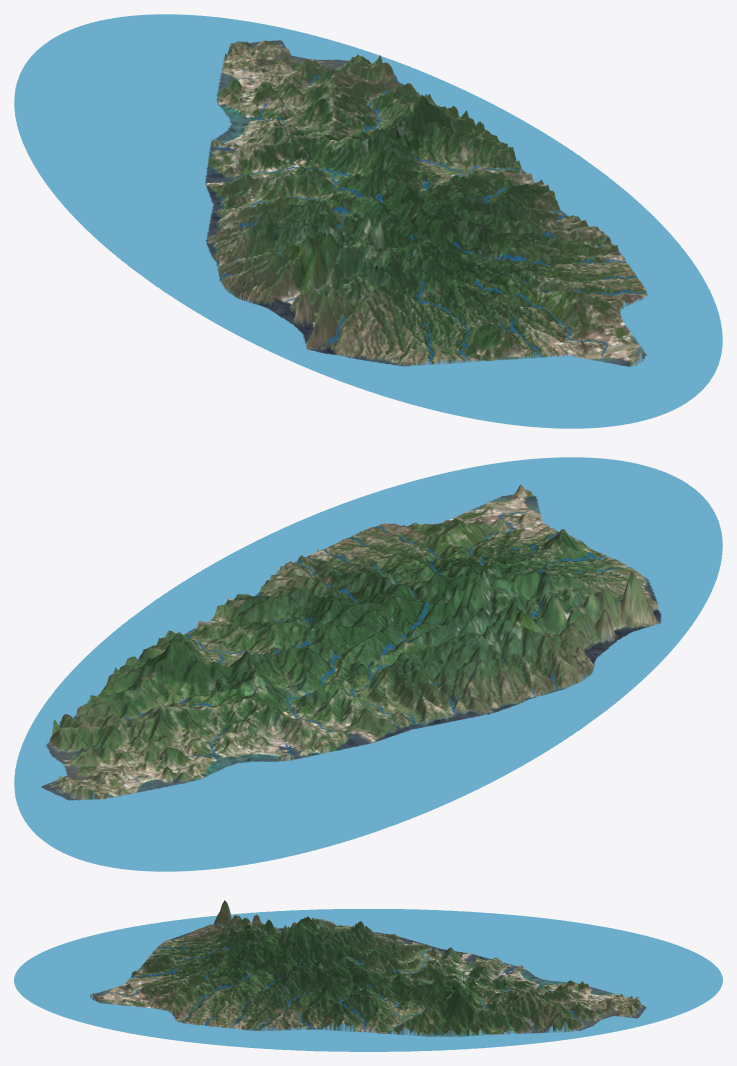
File: LCA-previa-terrain.glb
The picture shows the model from 3 angles, top to bottom: view 1: azimuth 30°, elevation 25°; view 2: azimuth 150°, elevation 25°; view 3: azimuth 270°, elevation 25°; orthographic projection. The views are drawn at different scales.
Parts seen in each view (by area): view 1: Santa Lúcia; view 2: Santa Lúcia; view 3: Santa Lúcia.
Part boxes in pixels (x1,y1,x2,y2): Santa Lúcia: [14, 14, 722, 428]; Santa Lúcia: [14, 457, 722, 871]; Santa Lúcia: [14, 900, 722, 1051].
Size of the model in its own units: 1.07 by 0.1414 by 2.24.
Materials: 1 (1 with a texture image).
